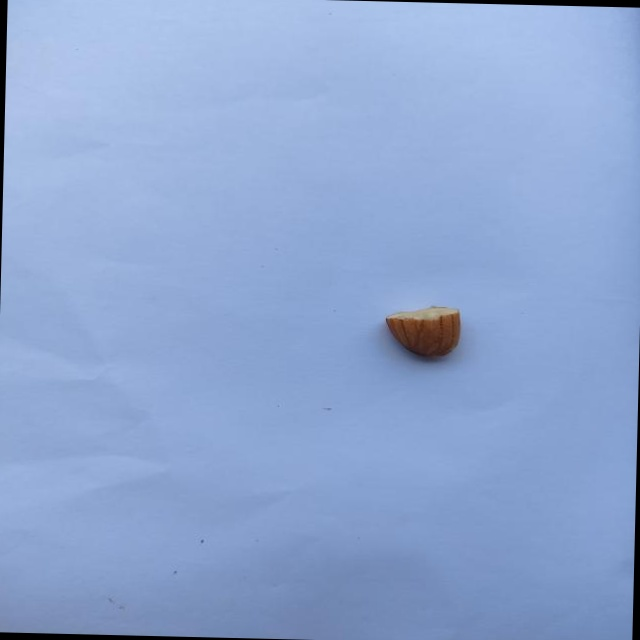grade4: (376, 301, 468, 365)
